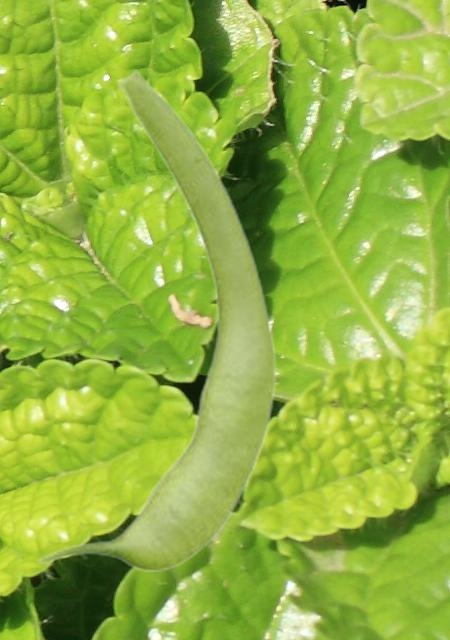french_bean: (36, 67, 277, 570)
